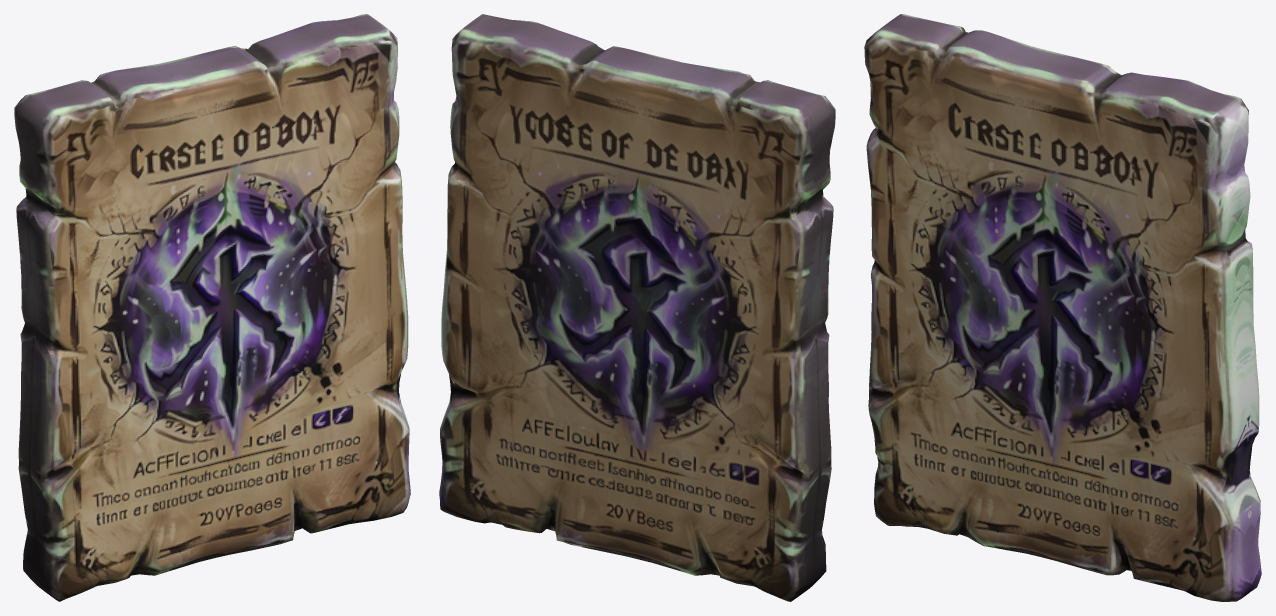
File: curse_card.glb
3 renders of one model, left to right at view 1: azimuth 30°, elevation 25°; view 2: azimuth 150°, elevation 25°; view 3: azimuth 330°, elevation 25°, orthographic.
Parts seen in each view (by area): view 1: Rune Stone Card; view 2: Rune Stone Card; view 3: Rune Stone Card.
Boxes of the visible parts, x1=… form: Rune Stone Card: x1=14, y1=14, x2=410, y2=601; Rune Stone Card: x1=439, y1=14, x2=835, y2=601; Rune Stone Card: x1=864, y1=14, x2=1261, y2=601.
Size of the model in its own units: 0.1183 by 0.15 by 0.018.
1 material, 1 textured.
